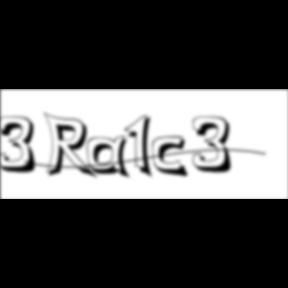1: (124, 114, 158, 182)
3: (193, 116, 239, 176), (1, 116, 44, 176)
R: (44, 112, 101, 182)
a: (87, 135, 135, 182)
c: (153, 136, 193, 180)
